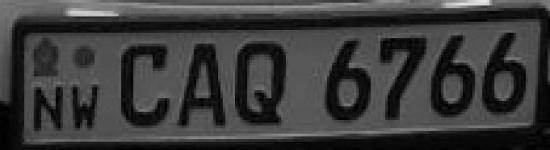6: (313, 31, 376, 130), (428, 30, 479, 123), (479, 27, 531, 118)
7: (377, 30, 430, 130)
A: (175, 38, 232, 134)
C: (114, 39, 175, 132)
N: (30, 82, 66, 136)
Q: (233, 37, 292, 132)
W: (66, 80, 104, 135)
